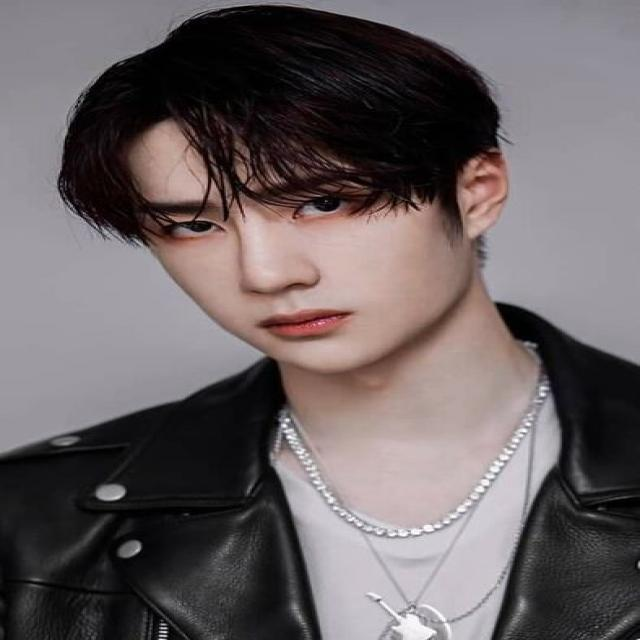Nonhelmet: (54, 2, 509, 373)
